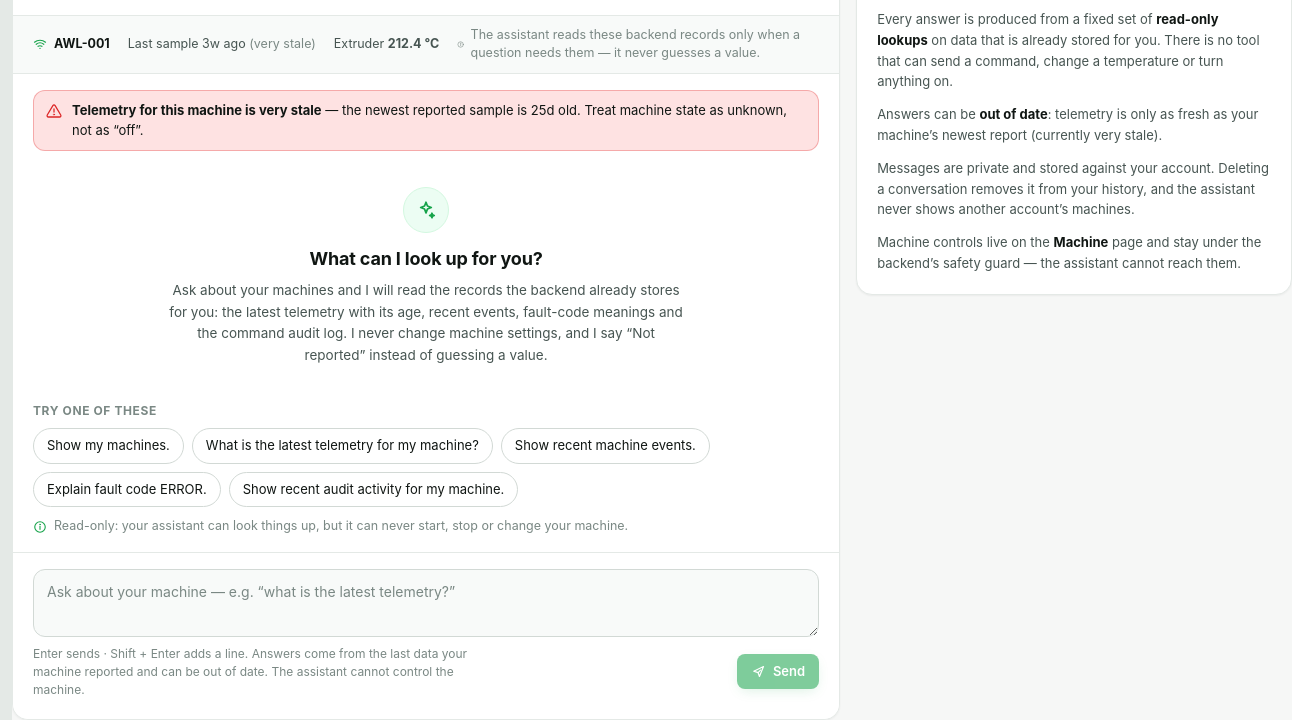
Test: assistant page — failure handling › retries a continuation against the same conversation id
The image size is (1292, 720).
(page scrolled)
Replace the text in the text box named "ask the assistant" with "question one" at (426, 603), box [33,569,819,636]
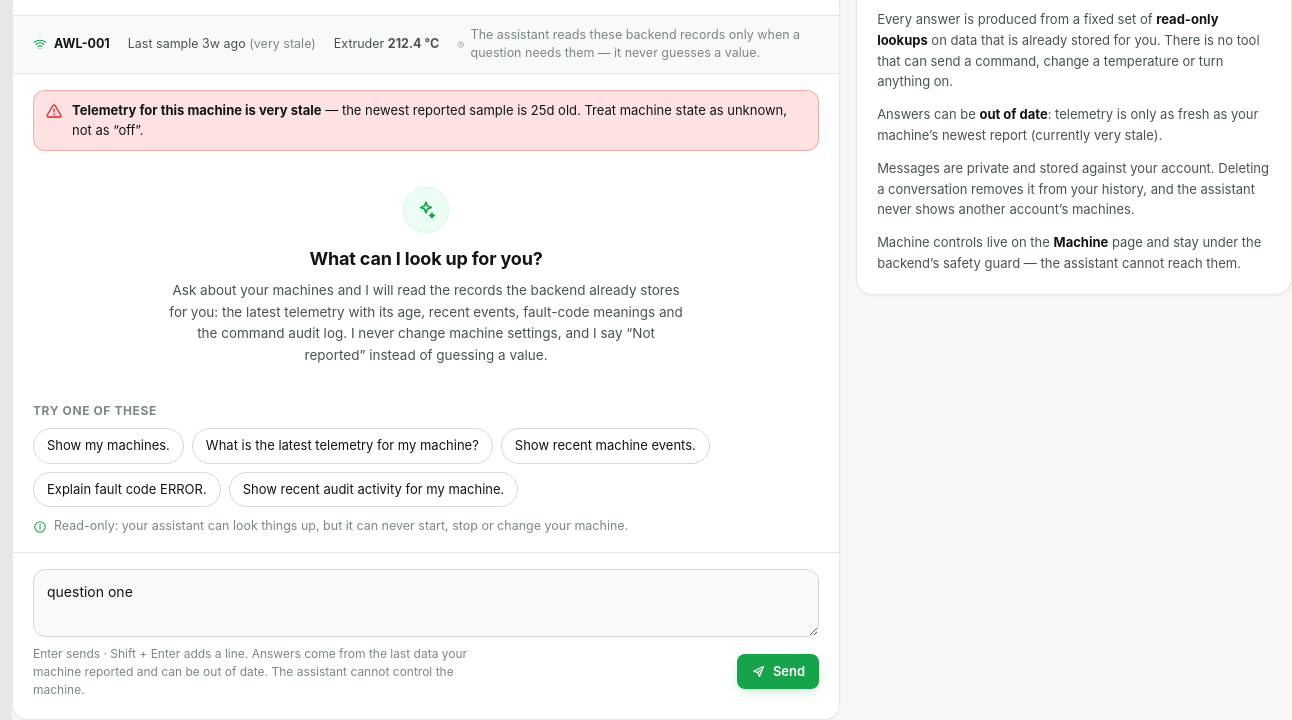
Click the button with aria-label "send message" at (778, 672), box [737,654,819,689]
(page scrolled)
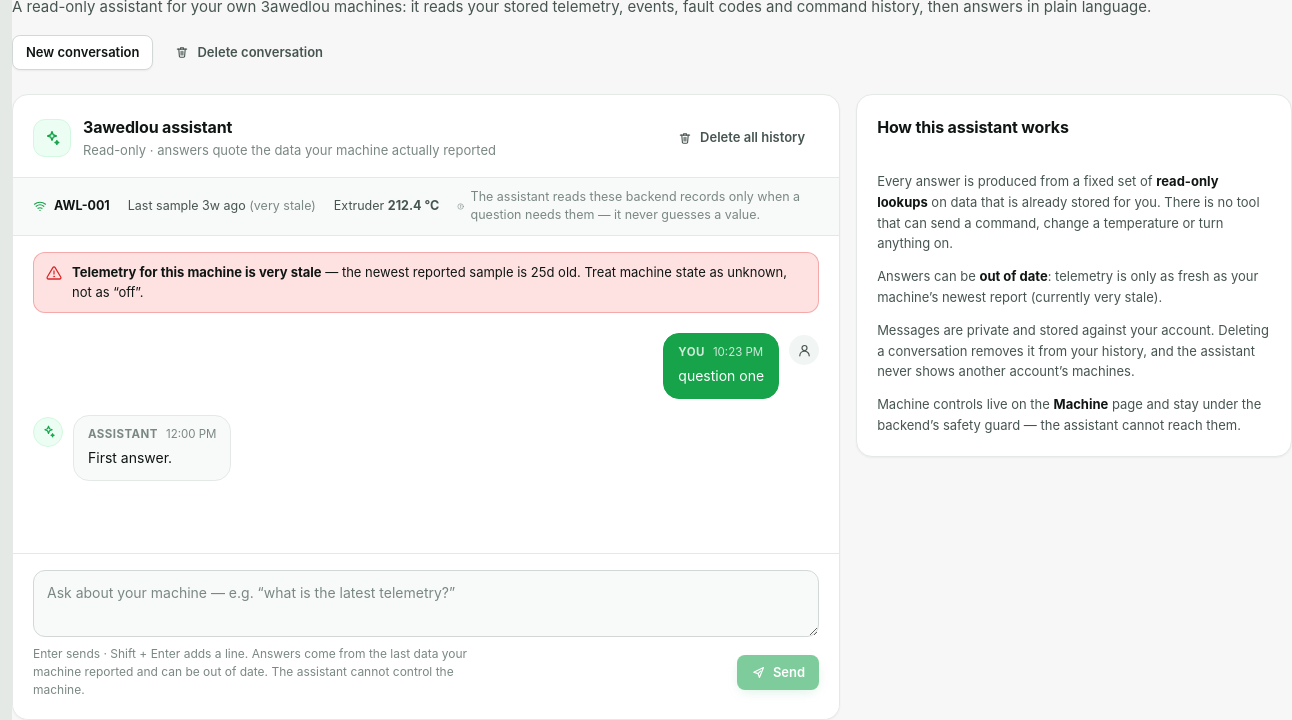
Expected: the text "First answer." is shown, [88,449,172,466]
Replace the text in the text box named "ask the assistant" with "question two" at (426, 604), box [33,570,819,637]
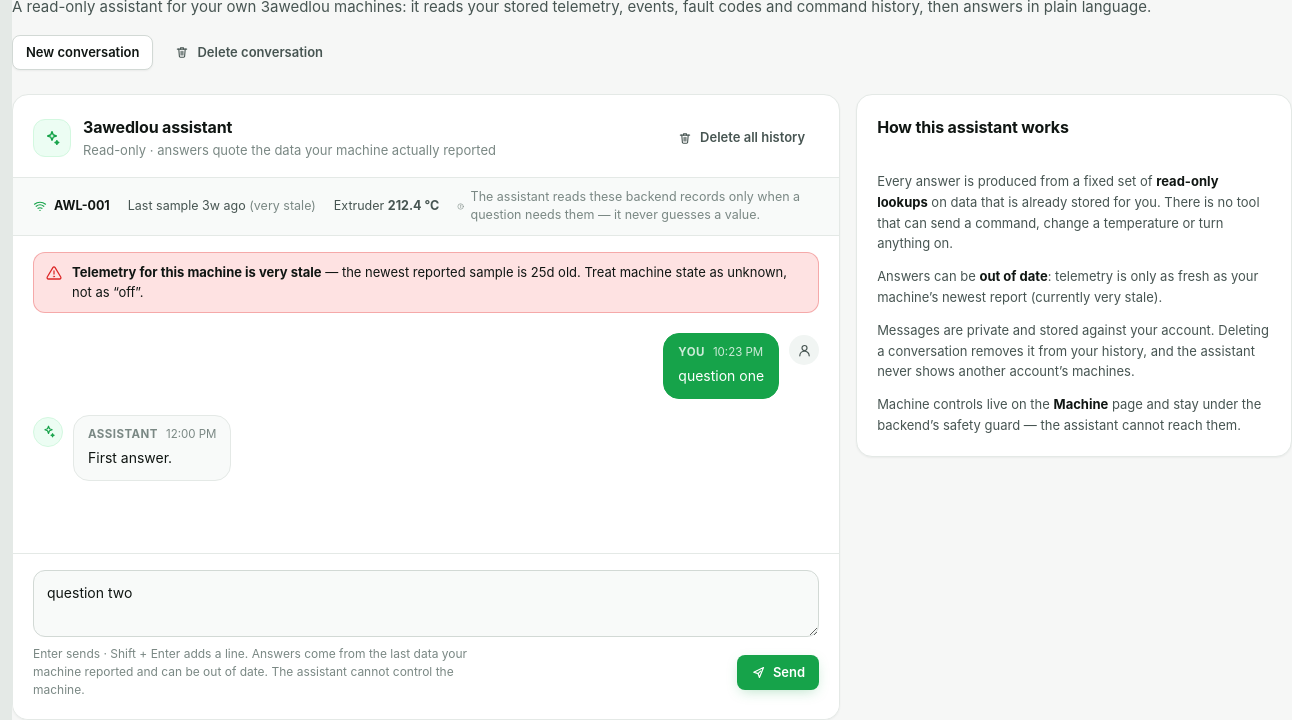
Click the button with aria-label "send message" at (778, 672), box [737,655,819,690]
(page scrolled)
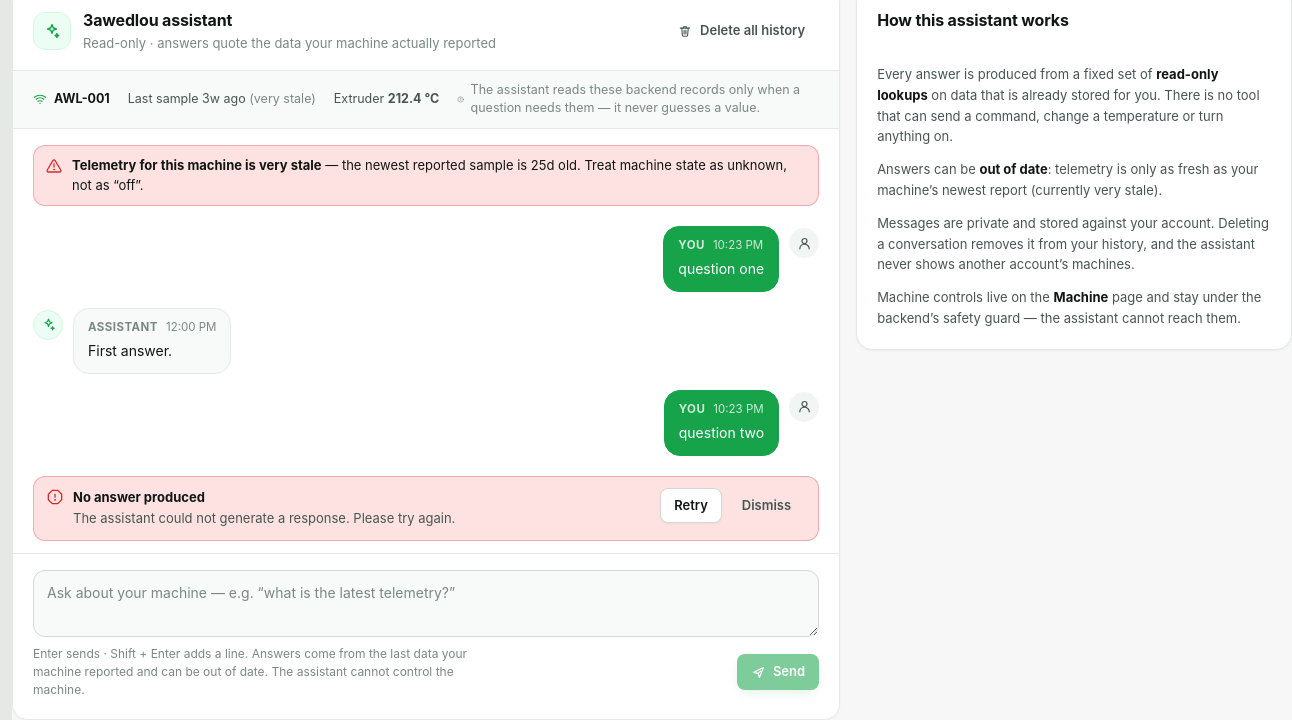
Expected: the message that starts with "No answer produced" is shown, [33,476,819,541]
Click the button "Retry" at (691, 506), box [660,488,722,523]
(page scrolled)
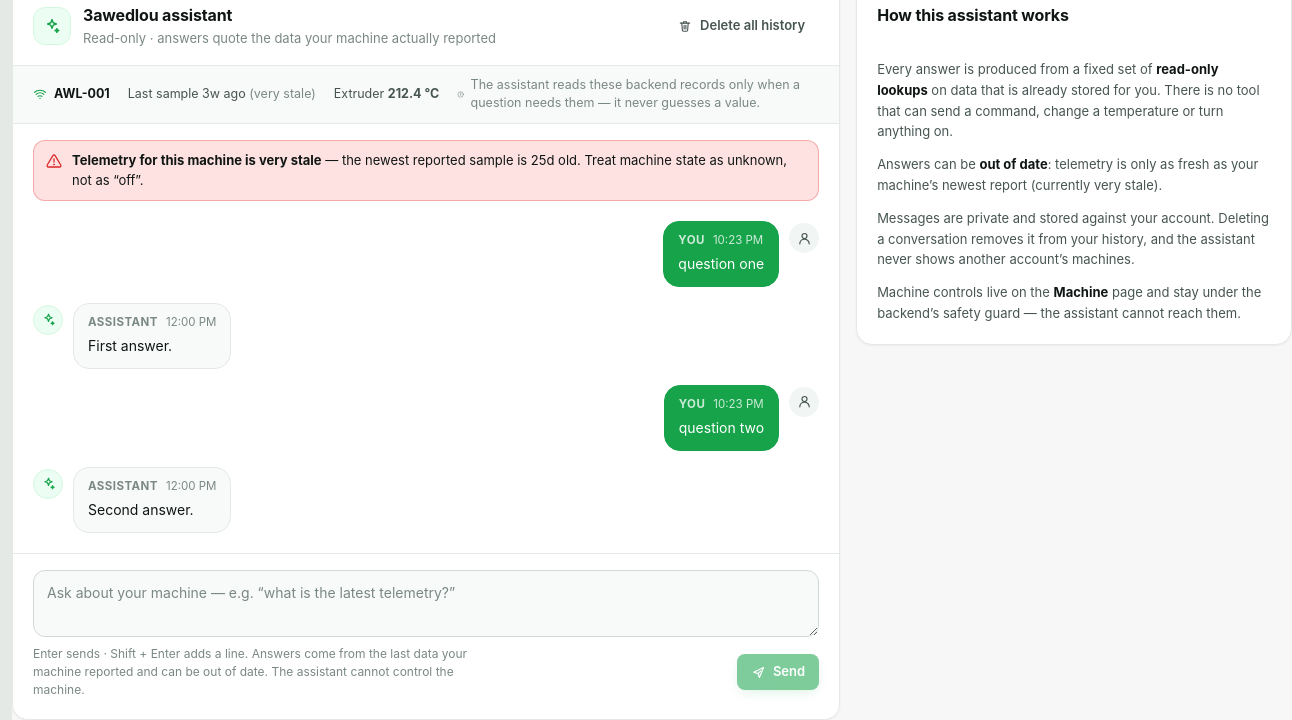
Expected: the text "Second answer." is shown, [88,501,194,518]
